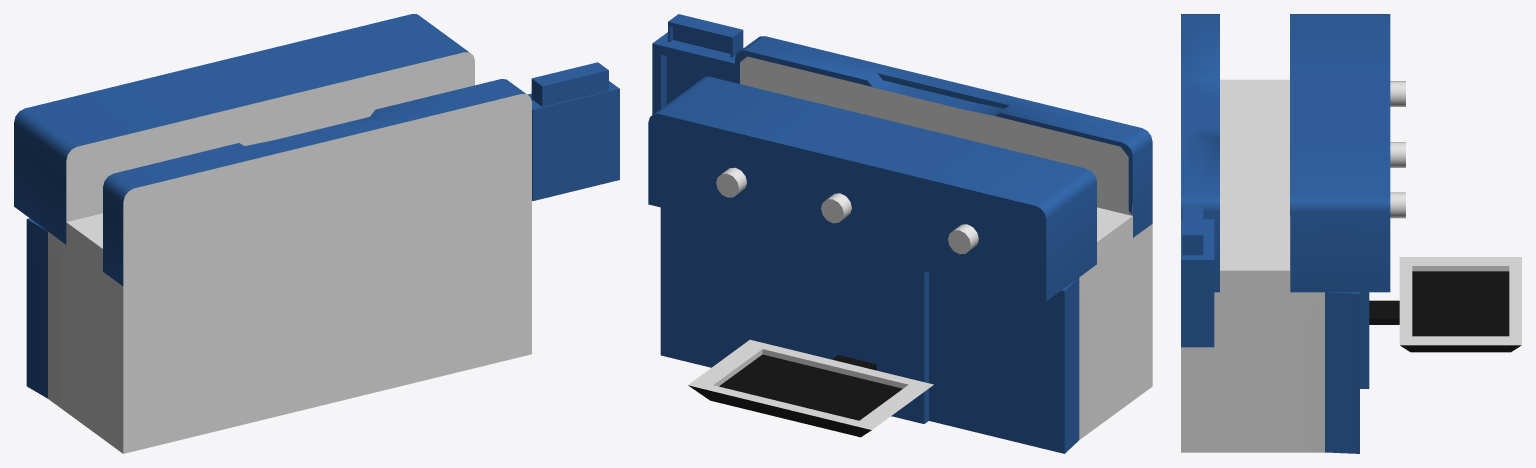
Rendered from ТЭГ.fbx.
3 renders of one model, left to right at view 1: azimuth 30°, elevation 25°; view 2: azimuth 150°, elevation 25°; view 3: azimuth 270°, elevation 25°, orthographic. The views are drawn at different scales.
Visible parts, largest first — view 1: Circle.001; view 2: Circle.001; view 3: Circle.001.
Part boxes in pixels (x1,y1,x2,y2): Circle.001: (14, 14, 619, 453); Circle.001: (648, 14, 1152, 453); Circle.001: (1181, 14, 1521, 453).
Bounding box in the file's own units: 66.65 × 33.72 × 41.14.
